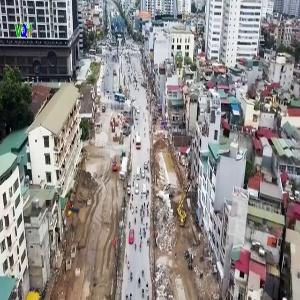drone: (42, 179, 105, 242)
